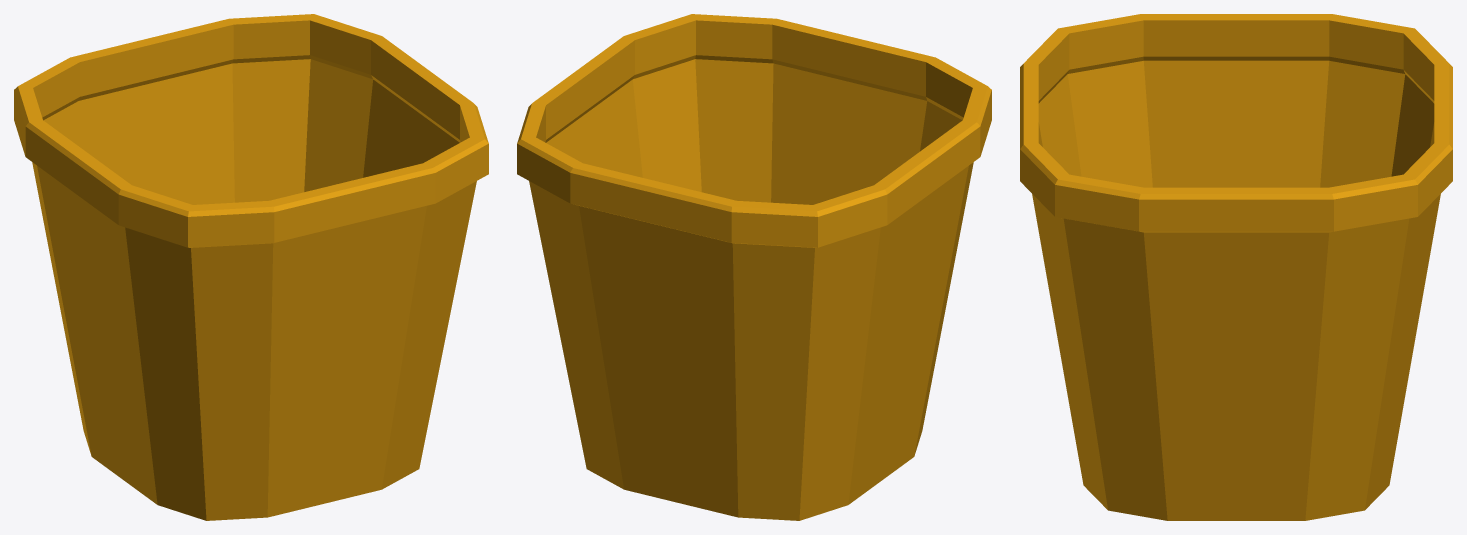
File: SM_Clutter_BucketSquare_Yellow_01.fbx
The picture shows the model from 3 angles, left to right: view 1: azimuth 30°, elevation 25°; view 2: azimuth 150°, elevation 25°; view 3: azimuth 270°, elevation 25°; orthographic projection. The views are drawn at different scales.
Parts seen in each view (by area): view 1: SM_Clutter_BucketSquare_Yellow_01; view 2: SM_Clutter_BucketSquare_Yellow_01; view 3: SM_Clutter_BucketSquare_Yellow_01.
Boxes of the visible parts, left/top/right/bottom form: SM_Clutter_BucketSquare_Yellow_01: left=14, top=14, right=488, bottom=520; SM_Clutter_BucketSquare_Yellow_01: left=517, top=14, right=991, bottom=520; SM_Clutter_BucketSquare_Yellow_01: left=1020, top=14, right=1452, bottom=520.
Size of the model in its own units: 0.3784 by 0.34 by 0.3784.
1 material, 1 textured.
